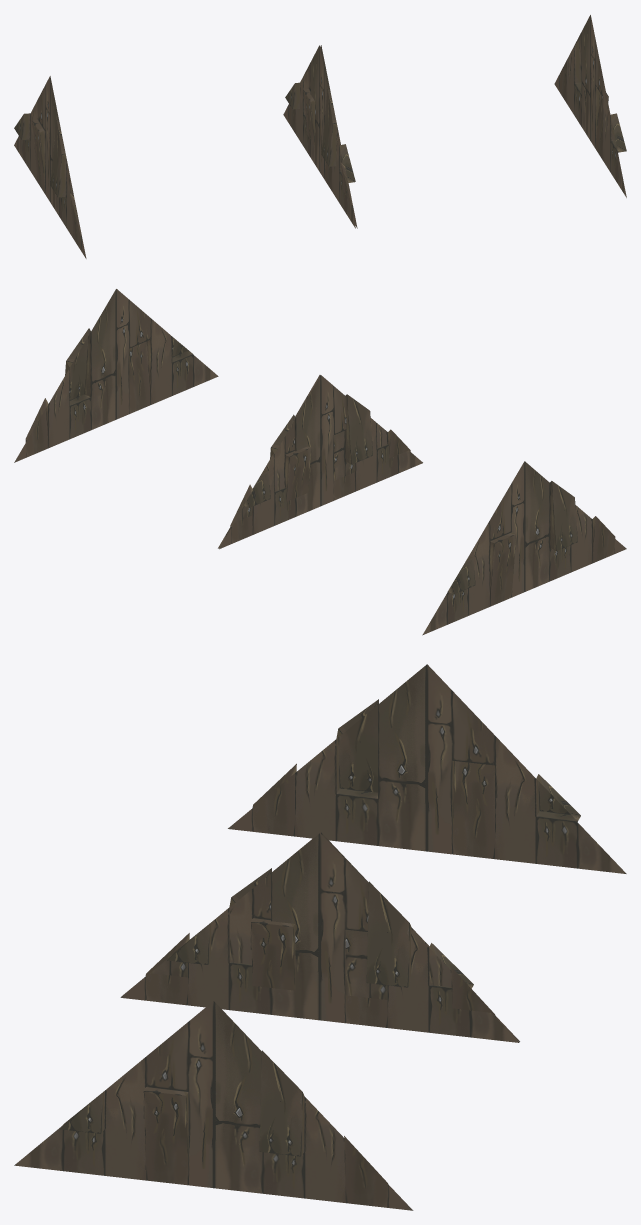
The model's file is polysurface253_mur_0_lev1_lev2.glb.
3 renders of one model, top to bottom at view 1: azimuth 30°, elevation 25°; view 2: azimuth 150°, elevation 25°; view 3: azimuth 270°, elevation 25°, orthographic. The views are drawn at different scales.
Visible parts, largest first — view 1: polysurface253_mur_0_lev1_lev2; view 2: polysurface253_mur_0_lev1_lev2; view 3: polysurface253_mur_0_lev1_lev2.
Part boxes in pixels (<box>): polysurface253_mur_0_lev1_lev2: <box>14,15,626,258</box>; polysurface253_mur_0_lev1_lev2: <box>14,289,626,635</box>; polysurface253_mur_0_lev1_lev2: <box>14,664,626,1210</box>.
Bounding box in the file's own units: 13.4 × 3.07 × 9.09.
Materials: 1 (1 with a texture image).
